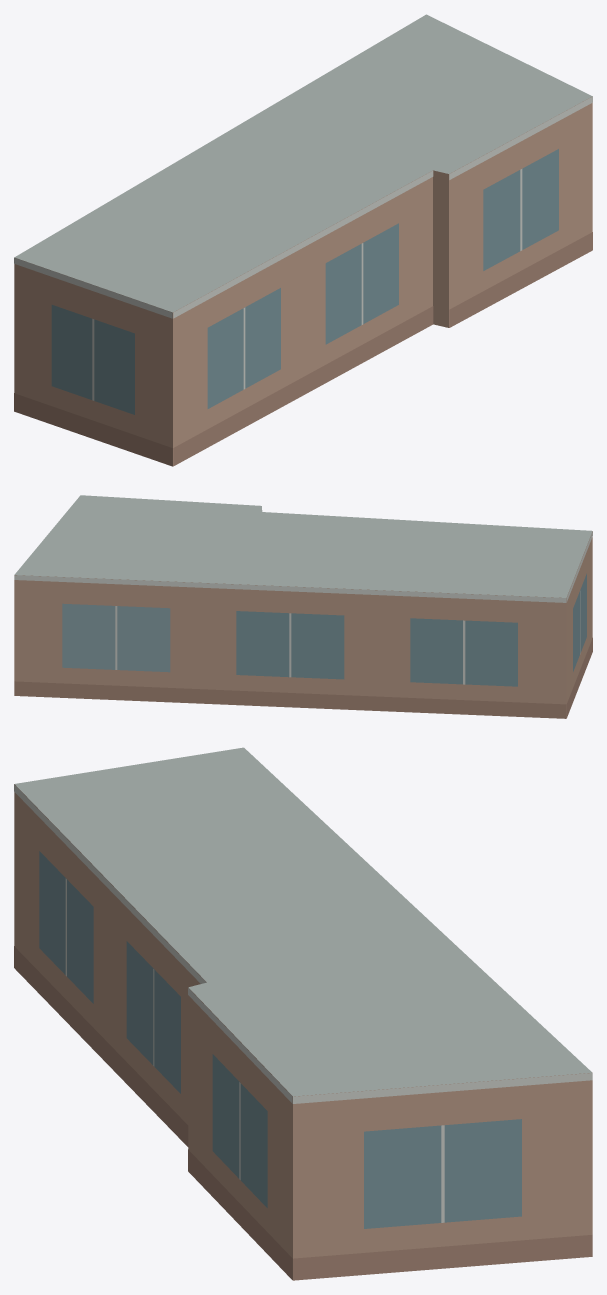
Rendered from survey-upis-32627447.glb.
3 renders of one model, top to bottom at view 1: azimuth 30°, elevation 25°; view 2: azimuth 150°, elevation 25°; view 3: azimuth 270°, elevation 25°, orthographic. The views are drawn at different scales.
Parts seen in each view (by area): view 1: survey-upis-32627447.tmp; view 2: survey-upis-32627447.tmp; view 3: survey-upis-32627447.tmp.
Boxes of the visible parts, <box> form: survey-upis-32627447.tmp: <box>14,14,592,466</box>; survey-upis-32627447.tmp: <box>14,495,592,718</box>; survey-upis-32627447.tmp: <box>14,747,592,1280</box>.
Size of the model in its own units: 12.43 by 3.05 by 8.7.
